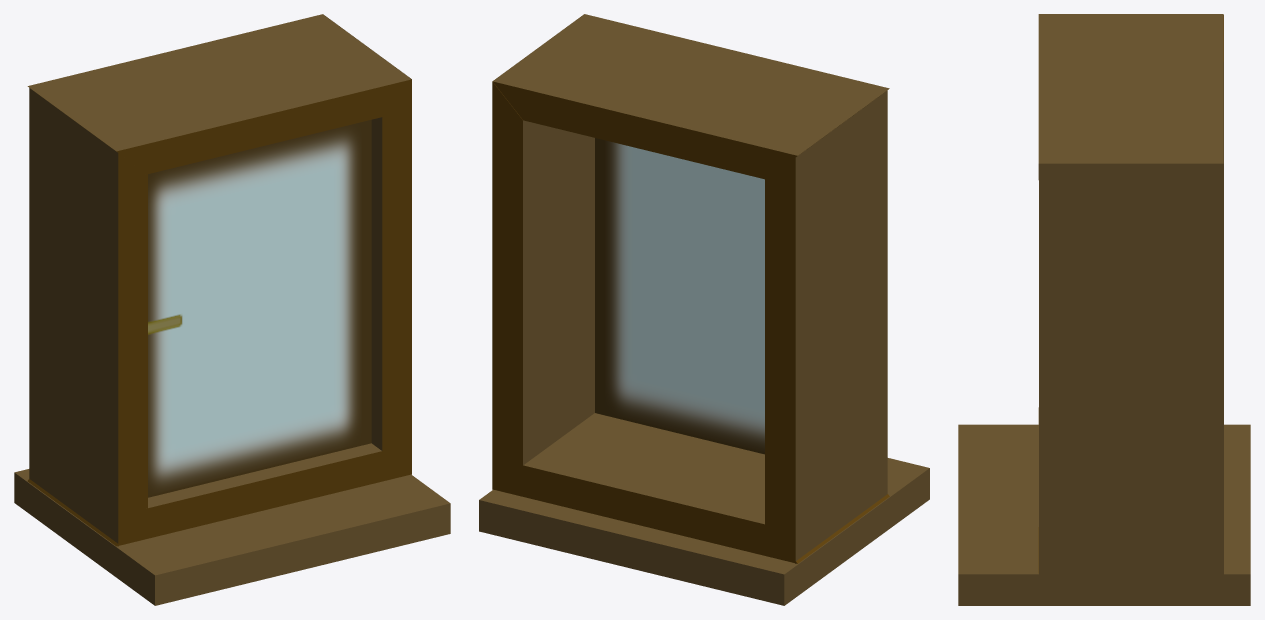
The model's file is Window.fbx.
3 views of the same model, side by side, from view 1: azimuth 30°, elevation 25°; view 2: azimuth 150°, elevation 25°; view 3: azimuth 270°, elevation 25° (orthographic). The views are drawn at different scales.
Parts seen in each view (by area): view 1: Window, Windowframe.001, Windowframe.002, Windowsill, Windowframe.003, Windowframe.004; view 2: Windowframe.001, Window, Windowframe.002, Windowframe.003, Windowframe.004, Windowsill; view 3: Windowframe.003, Windowframe.002, Windowsill.
Boxes of the visible parts, x1,y1,x2,y2 form: Window: (148, 119, 371, 497); Windowframe.001: (29, 88, 147, 546); Windowframe.002: (27, 14, 411, 174); Windowsill: (14, 469, 450, 605); Windowframe.003: (334, 22, 411, 474); Windowframe.004: (27, 443, 411, 546); Windowframe.001: (765, 90, 887, 563); Window: (595, 138, 764, 454); Windowframe.002: (493, 14, 889, 179); Windowframe.003: (492, 16, 594, 489); Windowframe.004: (493, 413, 889, 563); Windowsill: (479, 458, 929, 605); Windowframe.003: (1039, 163, 1223, 574); Windowframe.002: (1038, 14, 1223, 179); Windowsill: (958, 424, 1250, 605).
Bounding box in the file's own units: 56.26 × 77.5 × 46.41.
1 material, 1 textured.
